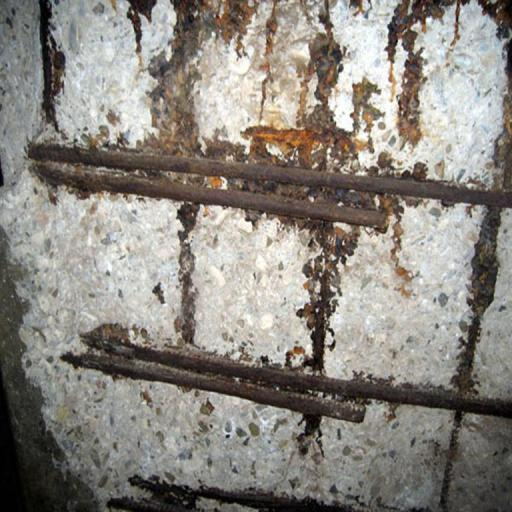spalling: (14, 73, 504, 485)
